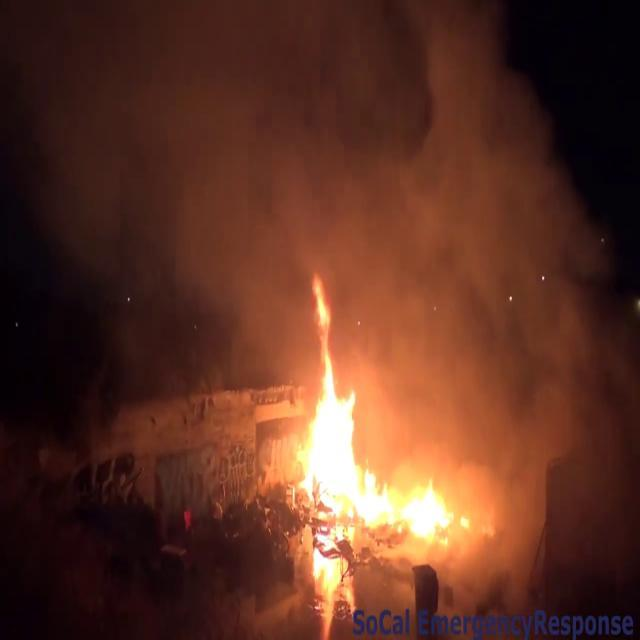Fire: (287, 278, 475, 564)
Smoke: (305, 0, 638, 503)
